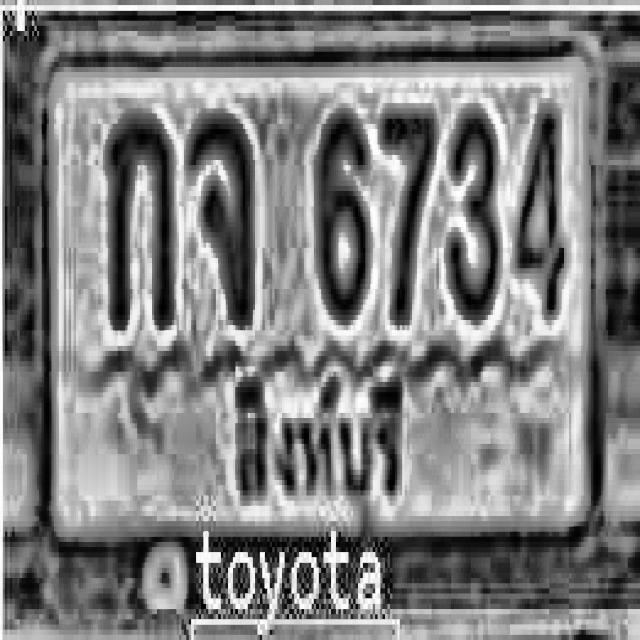license-plate: (29, 23, 604, 605)
